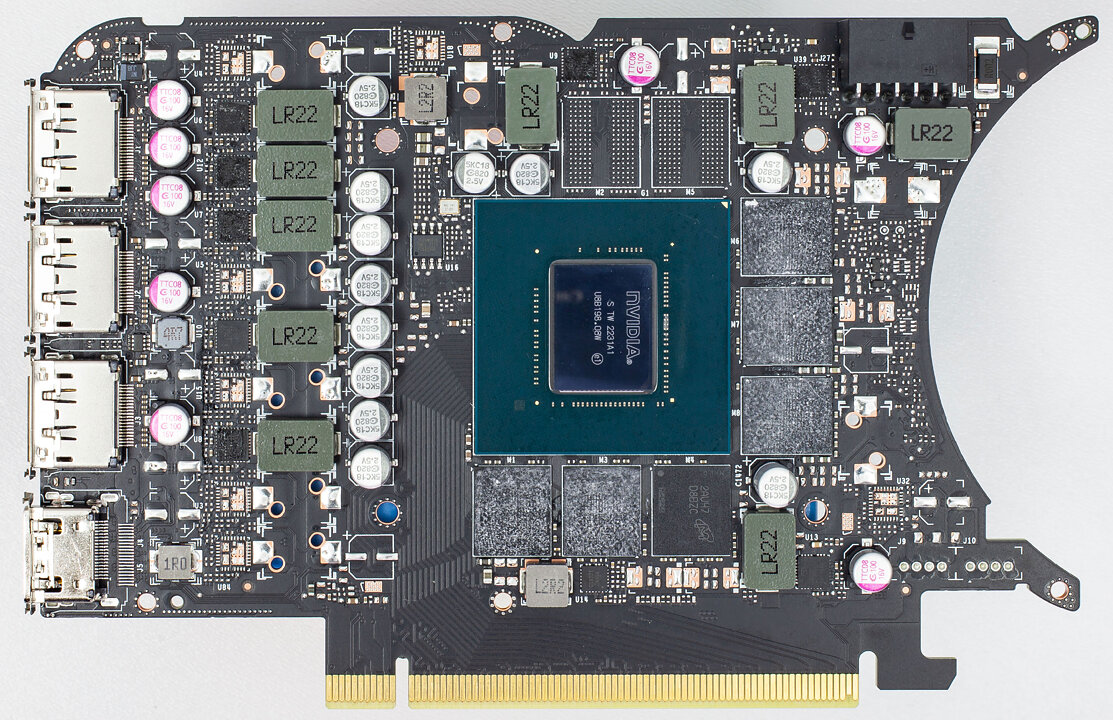Induktor: (739, 509, 794, 592), (502, 66, 559, 145), (739, 64, 796, 143), (256, 310, 335, 365), (256, 418, 335, 470), (256, 90, 335, 140), (257, 200, 334, 251), (257, 146, 334, 197), (891, 108, 970, 157), (523, 563, 572, 606), (403, 77, 447, 122), (157, 543, 193, 579), (156, 315, 191, 347)
